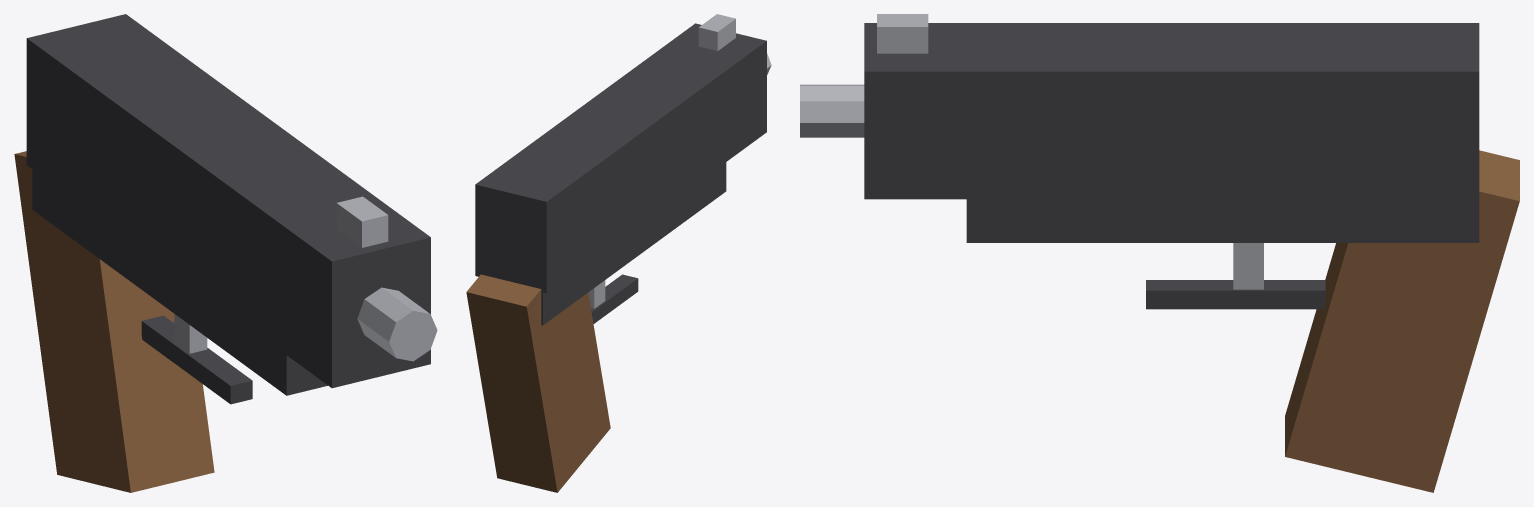
The model's file is Pistol.fbx.
The picture shows the model from 3 angles, left to right: view 1: azimuth 30°, elevation 25°; view 2: azimuth 150°, elevation 25°; view 3: azimuth 270°, elevation 25°; orthographic projection. The views are drawn at different scales.
Parts seen in each view (by area): view 1: Pistol; view 2: Pistol; view 3: Pistol.
Boxes of the visible parts, x1,y1,x2,y2 form: Pistol: [14, 14, 437, 492]; Pistol: [466, 14, 771, 492]; Pistol: [800, 14, 1519, 492].
Bounding box in the file's own units: 0.045 × 0.1945 × 0.2808.
